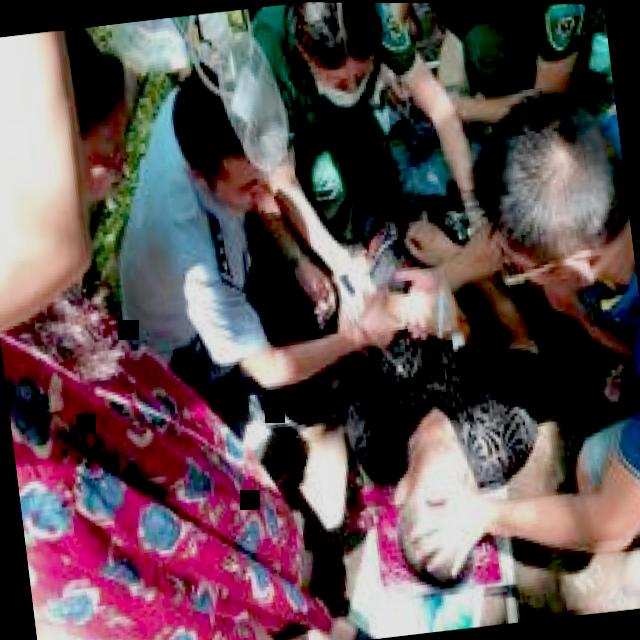Fall-Detected: (298, 151, 584, 640)
